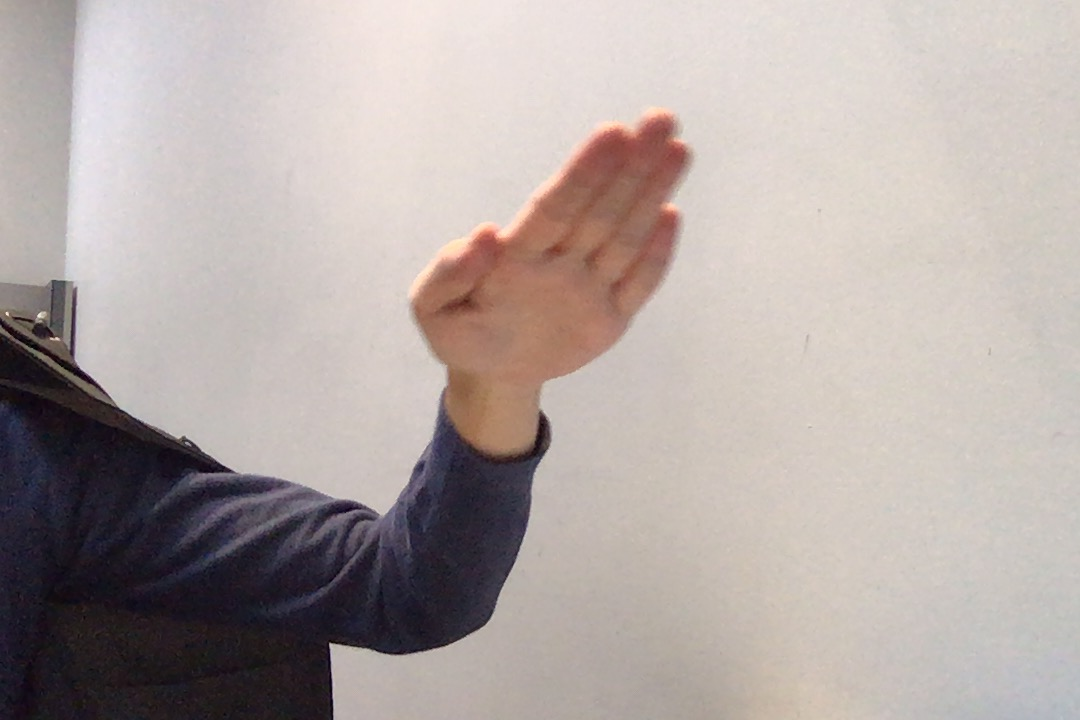palmhand: (384, 92, 707, 410)
